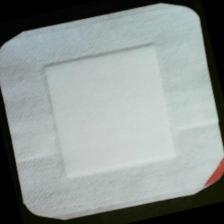Dressing: (1, 1, 224, 224)
Red_T: (191, 154, 224, 195)
